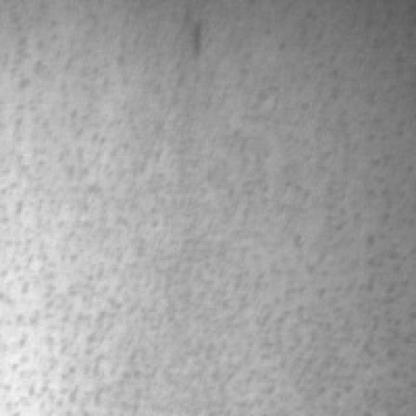pitted_surface: (0, 2, 144, 410), (316, 4, 414, 366)
